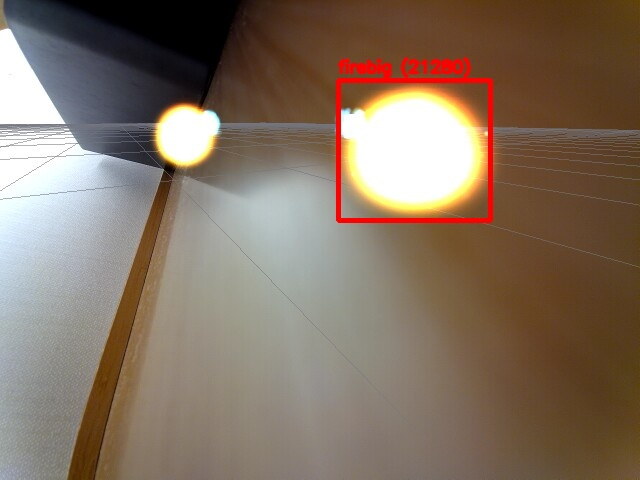firebig: (338, 80, 490, 220)
